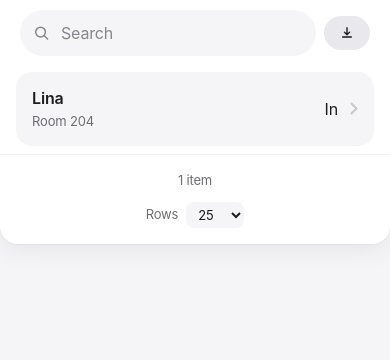
Test case: DataTable › phone list: compact rows that expand to show details and actions
Later steps or results of the test are not shown.
Expected: the text "Cairo" is not shown
Click the button "Lina Room 204 In" at (48, 98), box x1=16 y1=72 x2=374 y2=146
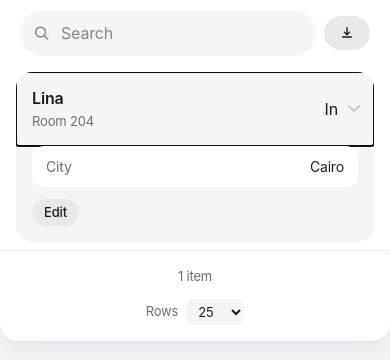
Now the button "Lina Room 204 In" is expanded, box x1=16 y1=72 x2=374 y2=146
Now the text "Cairo" is shown, box x1=310 y1=156 x2=344 y2=176
